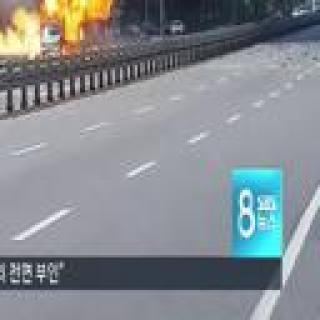fire: (48, 0, 116, 47), (0, 19, 41, 61)
